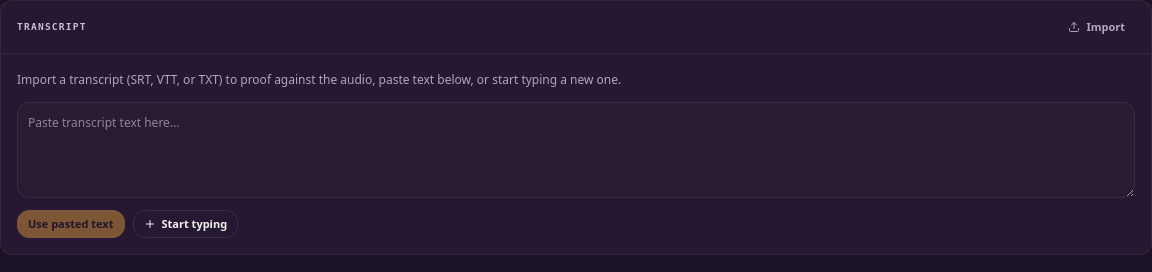
Transcript storage and timestamps › creates a visibly timed line at playback position zero
Click the button "Start typing" at (185, 224), box [132,210,238,238]
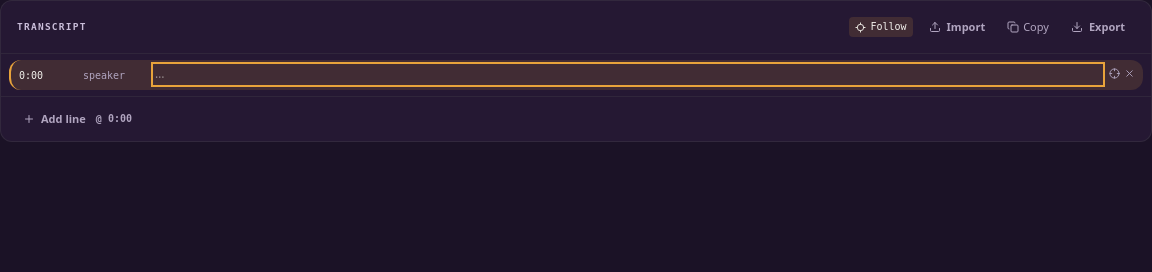
expect the button titled "Jump to this point" reads "0:00": met, box [19,68,43,84]
